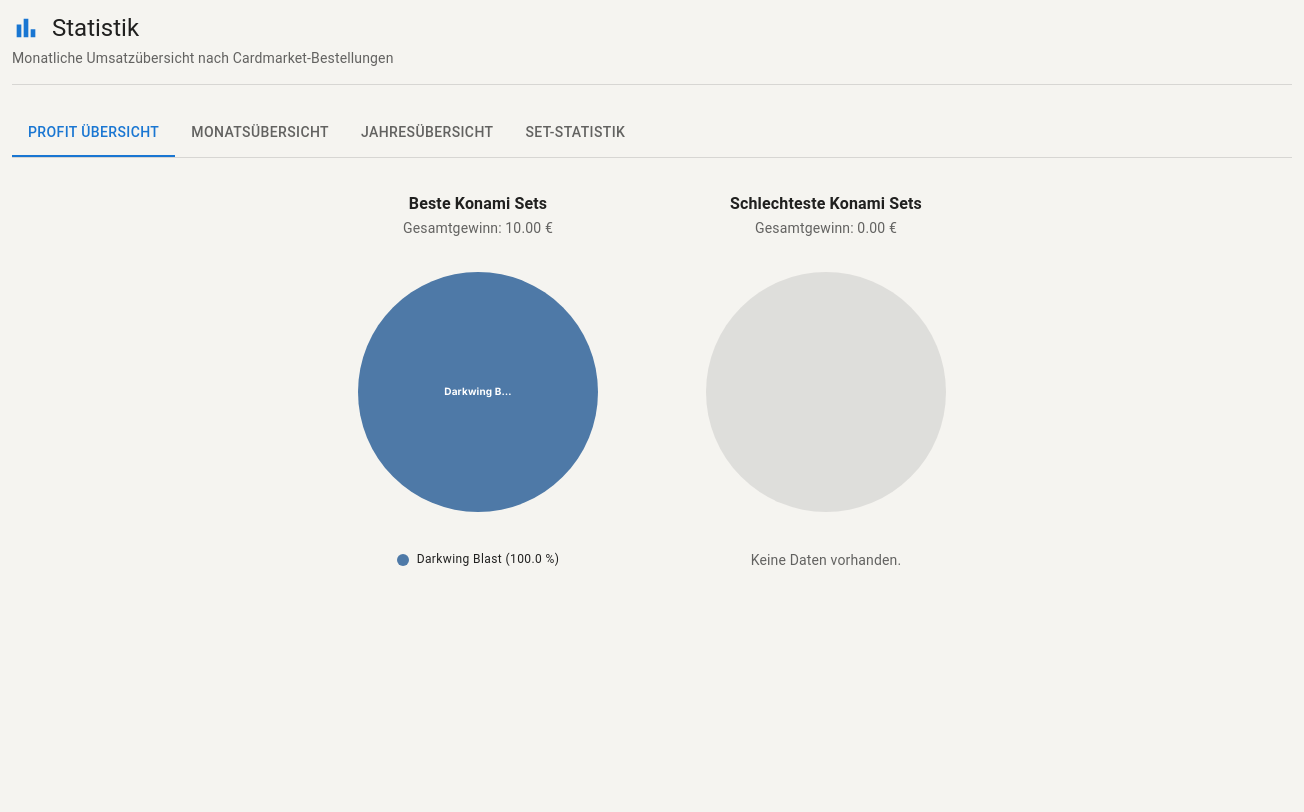
Test case: Statistik › switches to Set-Statistik tab and shows set filter input
What coordinates should you click on to do the following:
click the tab "Set-Statistik"
I would click on:
 (575, 133)
Its box is [510,109,641,157].
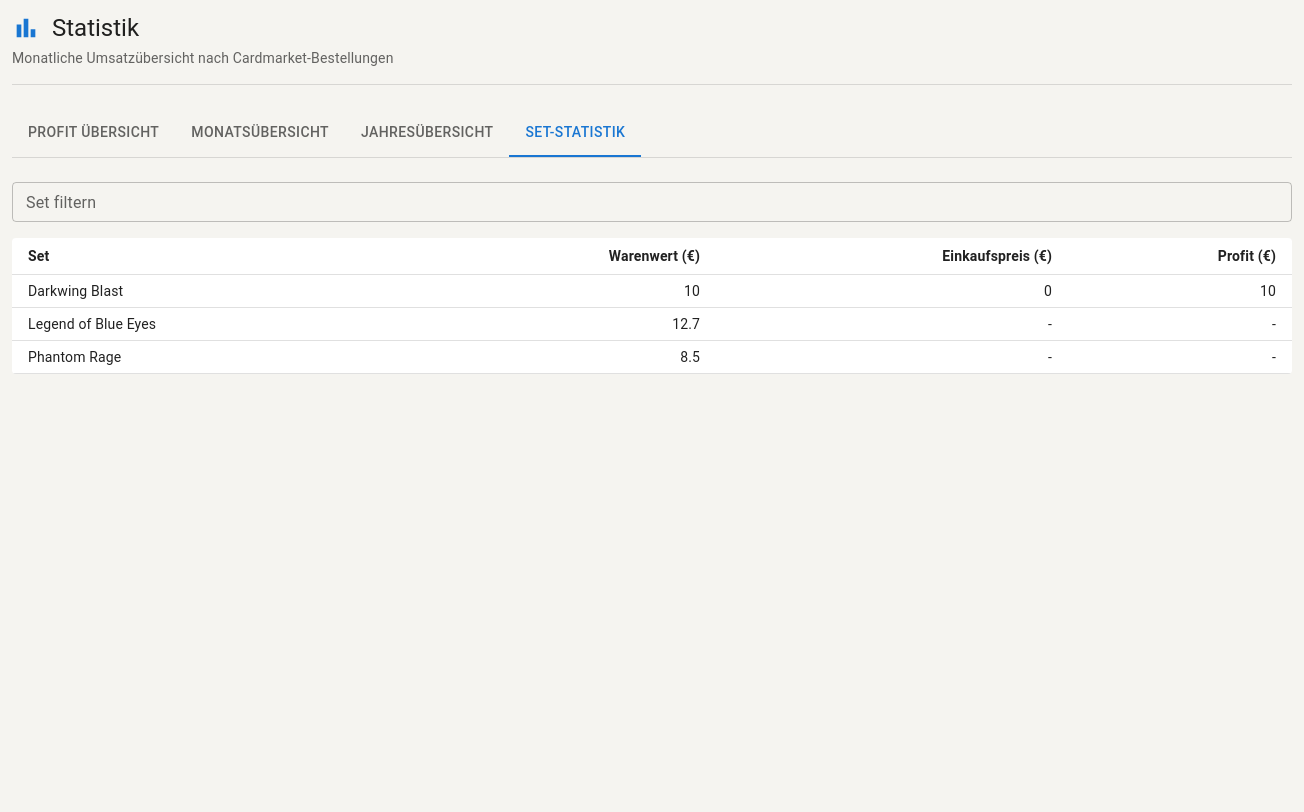
Check: the field labelled "Set filtern" is shown, box [12,182,1292,222]
